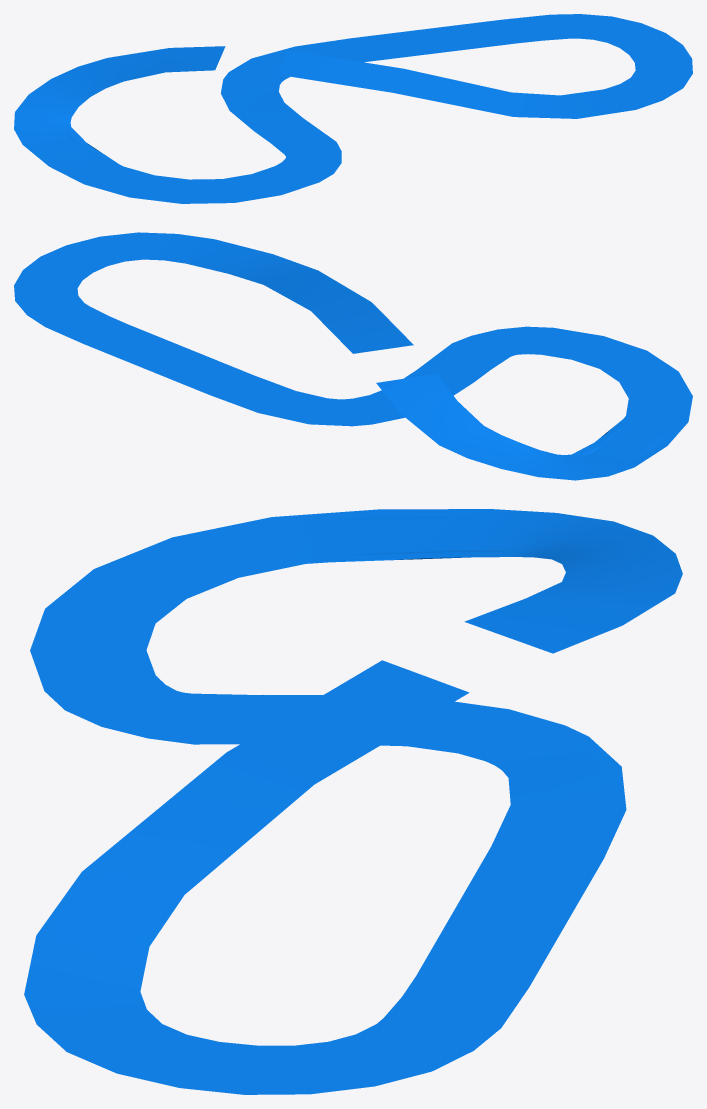
Rendered from tracksurface.obj.
3 renders of one model, top to bottom at view 1: azimuth 30°, elevation 25°; view 2: azimuth 150°, elevation 25°; view 3: azimuth 270°, elevation 25°, orthographic. The views are drawn at different scales.
Visible parts, largest first — view 1: nurbsToPoly1; view 2: nurbsToPoly1; view 3: nurbsToPoly1.
Part boxes in pixels (<box>): nurbsToPoly1: <box>14,14,692,203</box>; nurbsToPoly1: <box>14,232,692,480</box>; nurbsToPoly1: <box>24,509,682,1094</box>.
Size of the model in its own units: 36.14 by 2.09 by 17.19.
